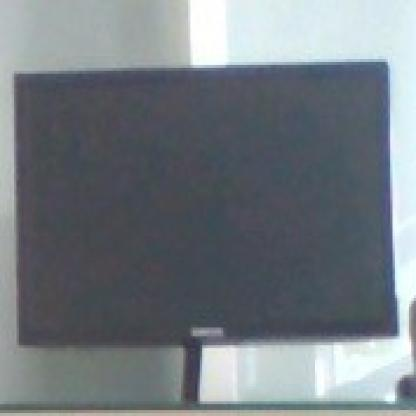not trash: (15, 61, 398, 406)
